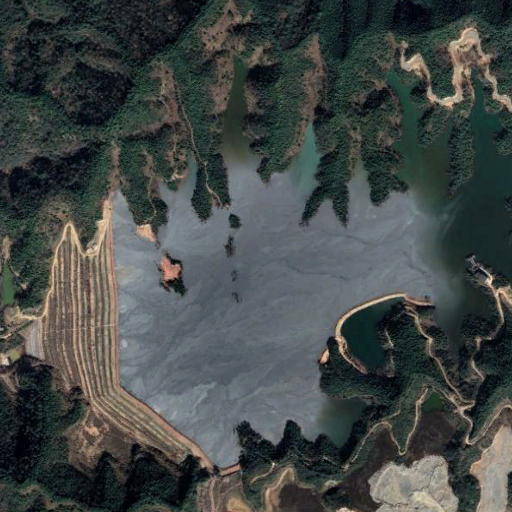tp: (33, 80, 505, 479)
